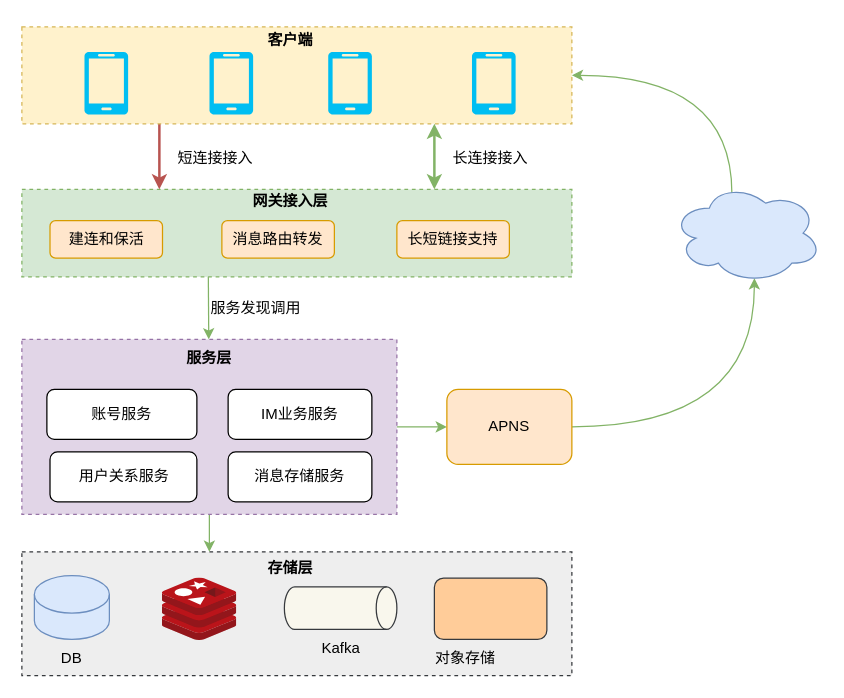
The diagram is 844 pixels wide and 698 high, and some of its shapes have lost their labels. The shapes that lost their labels are listed below. From the top down, each one's centre as x and y in pixels, then its label:
At (746,232): "三方推送平台".
At (199,609): "Redis".
At (490,608): "音视频存储".
